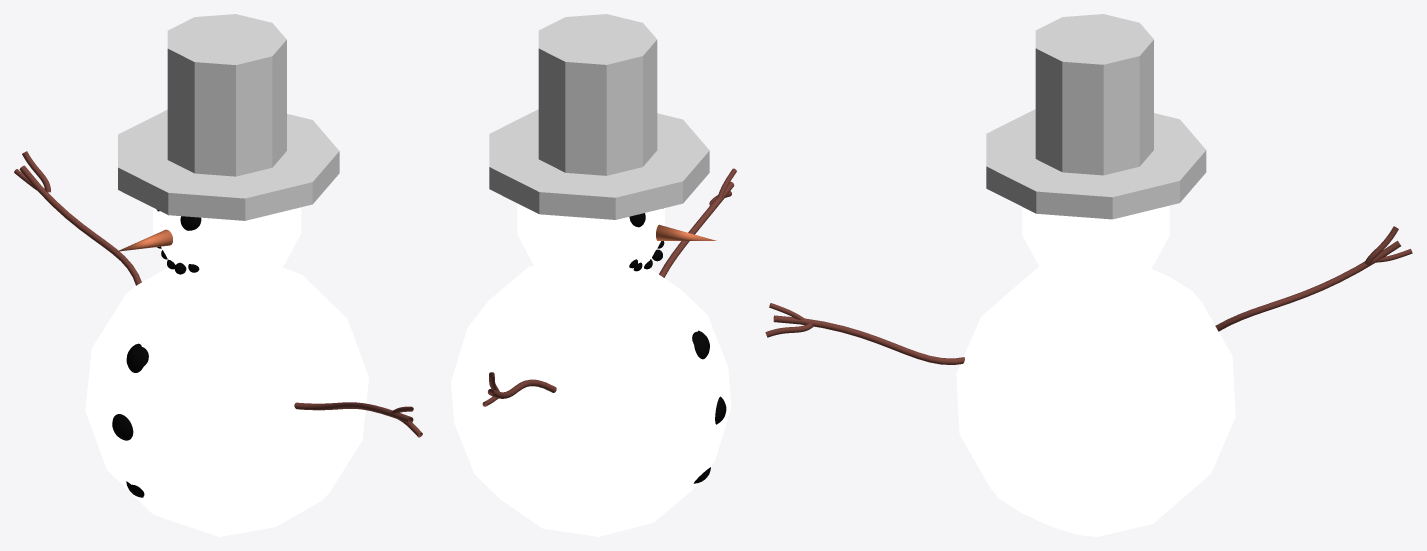
File: snowman_derpy.gltf
3 renders of one model, left to right at view 1: azimuth 30°, elevation 25°; view 2: azimuth 150°, elevation 25°; view 3: azimuth 270°, elevation 25°, orthographic.
Parts seen in each view (by area): view 1: Snow1, Hat, Snow2, BezierCurve.005, BezierCurve, Nose, Sphere.011; view 2: Snow1, Hat, Snow2, BezierCurve, Nose, BezierCurve.005, Sphere.011; view 3: Snow1, Hat, Snow2, BezierCurve.005, BezierCurve.
Part boxes in pixels (left/top/right/bottom): Snow1: left=85, top=267, right=368, bottom=536; Hat: left=118, top=14, right=339, bottom=220; Snow2: left=153, top=207, right=301, bottom=291; BezierCurve.005: left=19, top=165, right=141, bottom=285; BezierCurve: left=294, top=402, right=413, bottom=423; Nose: left=117, top=229, right=172, bottom=251; Sphere.011: left=126, top=343, right=148, bottom=372; Snow1: left=451, top=265, right=731, bottom=536; Hat: left=489, top=14, right=709, bottom=219; Snow2: left=517, top=203, right=664, bottom=292; BezierCurve: left=659, top=181, right=734, bottom=277; Nose: left=656, top=224, right=716, bottom=240; BezierCurve.005: left=488, top=379, right=556, bottom=398; Sphere.011: left=692, top=330, right=709, bottom=359; Snow1: left=956, top=266, right=1235, bottom=536; Hat: left=986, top=14, right=1206, bottom=219; Snow2: left=1022, top=205, right=1169, bottom=293; BezierCurve.005: left=1215, top=241, right=1400, bottom=331; BezierCurve: left=773, top=315, right=964, bottom=364.
Bounding box in the file's own units: 0.6749 × 1.27 × 1.54.
